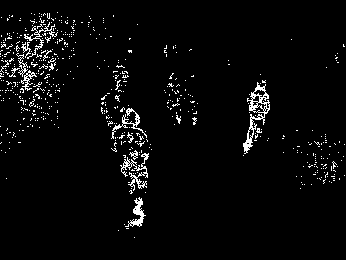person: (109, 107, 150, 230), (244, 79, 270, 156)
